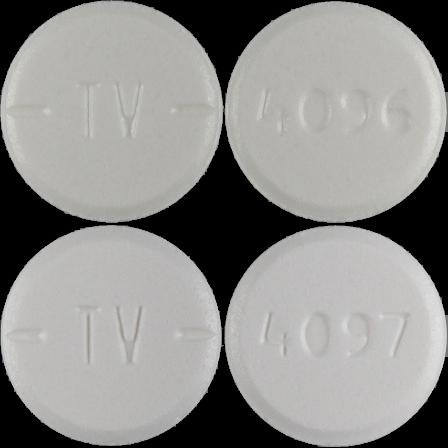61919-026: (0, 0, 224, 224)
